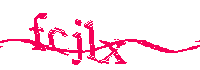c: (49, 27, 70, 58)
f: (30, 11, 48, 52)
j: (71, 20, 83, 70)
l: (85, 18, 99, 63)
x: (99, 38, 127, 67)
